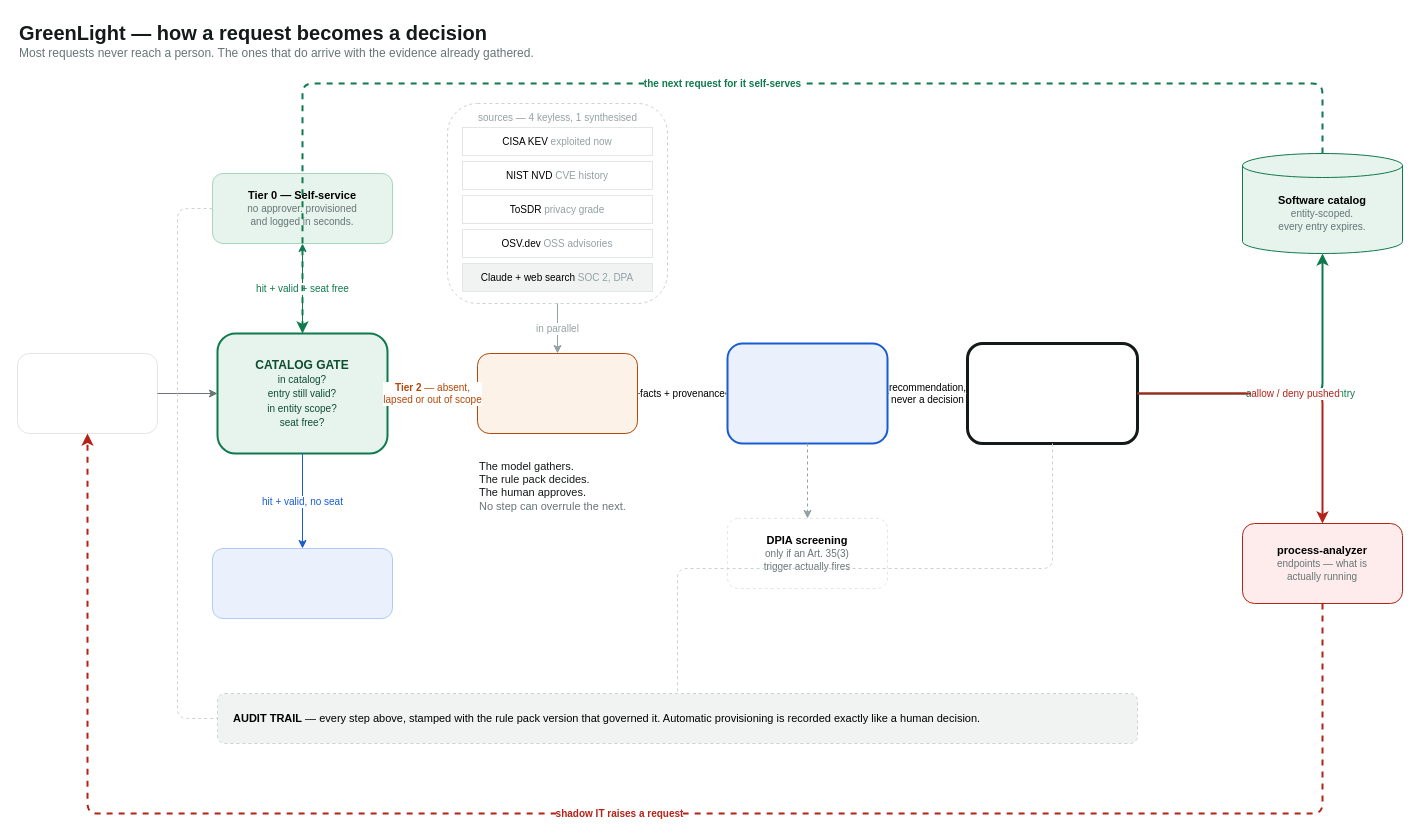
Image size: 1420x839. Some labels were removed from this diagram. The shapes that lost their labels are listed below. From the top down, each one's box as (x1, y1, x2, y2) in pixels, then its label:
(16, 352, 158, 434): Intake form · seeded queue · endpoint finding
(476, 352, 638, 434): RESEARCH every fact carries its provenance
(726, 342, 888, 444): RULE PACK versioned YAML, one per entity. derives the verdict
(966, 342, 1138, 444): HUMAN DECIDES Approve · Conditions Reject · More info
(212, 548, 392, 618): Tier 1 — Spend only security already settled. budget owner decides.
